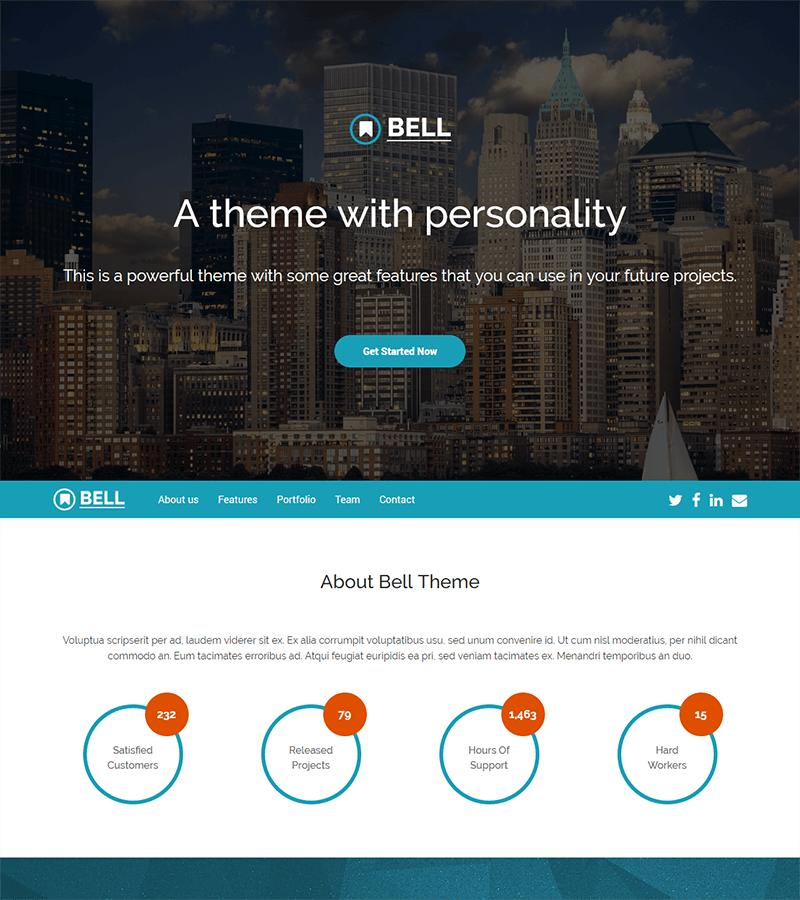button: (328, 331, 472, 372)
